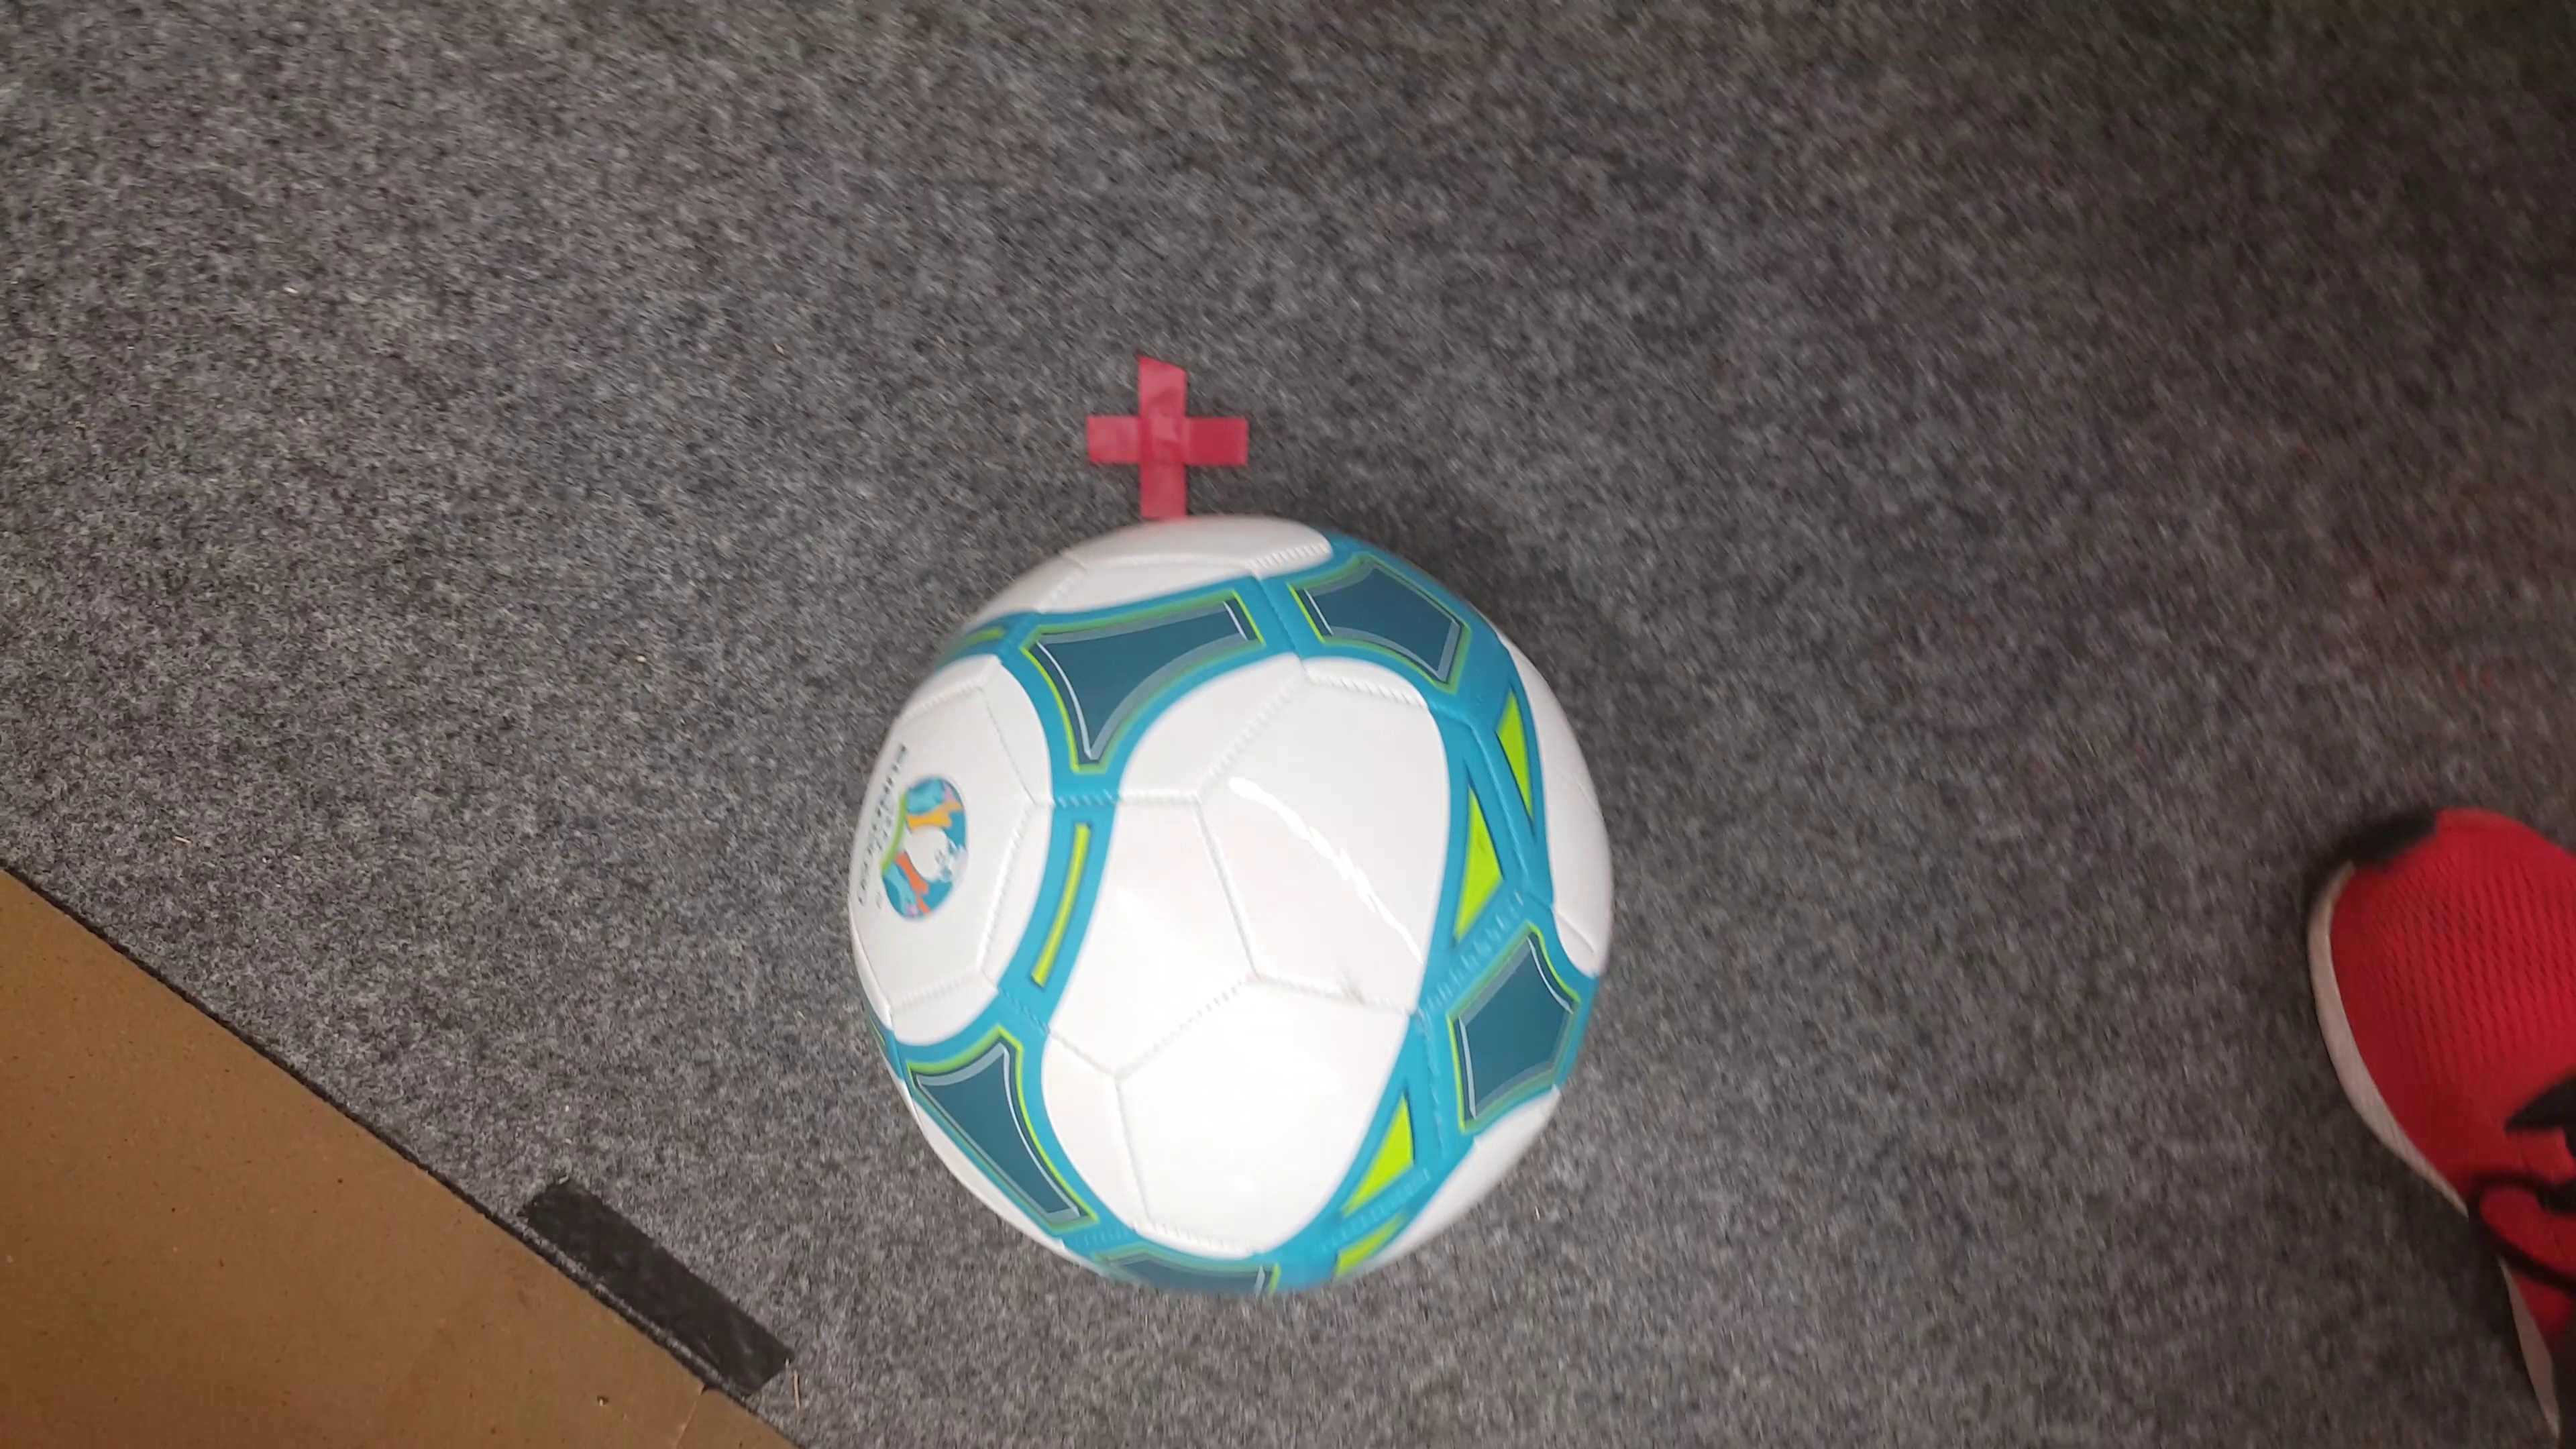kick: (846, 501, 1617, 1297)
